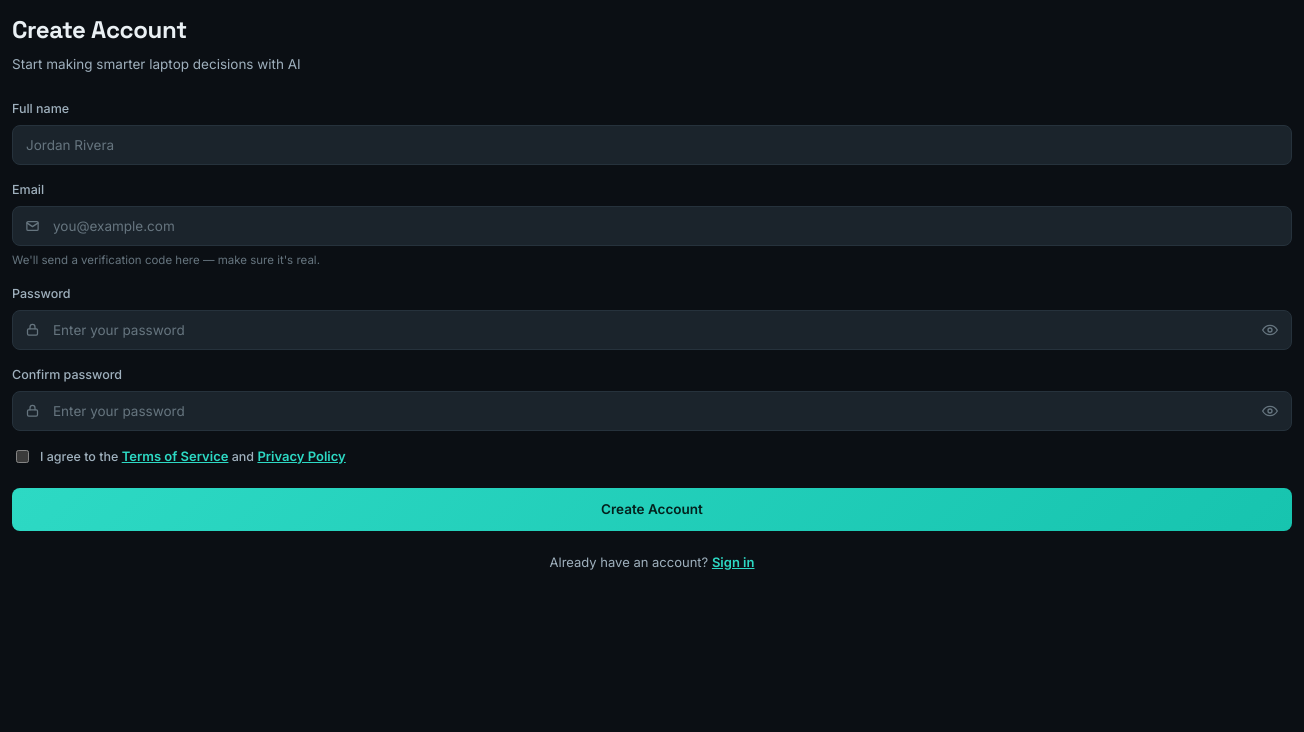
Scenario: RegisterForm — two-step email OTP verification › rejects mismatched passwords
Step 1. Type "Alice" into the field labelled "Full name" → [652, 145], box [12,125,1292,165]
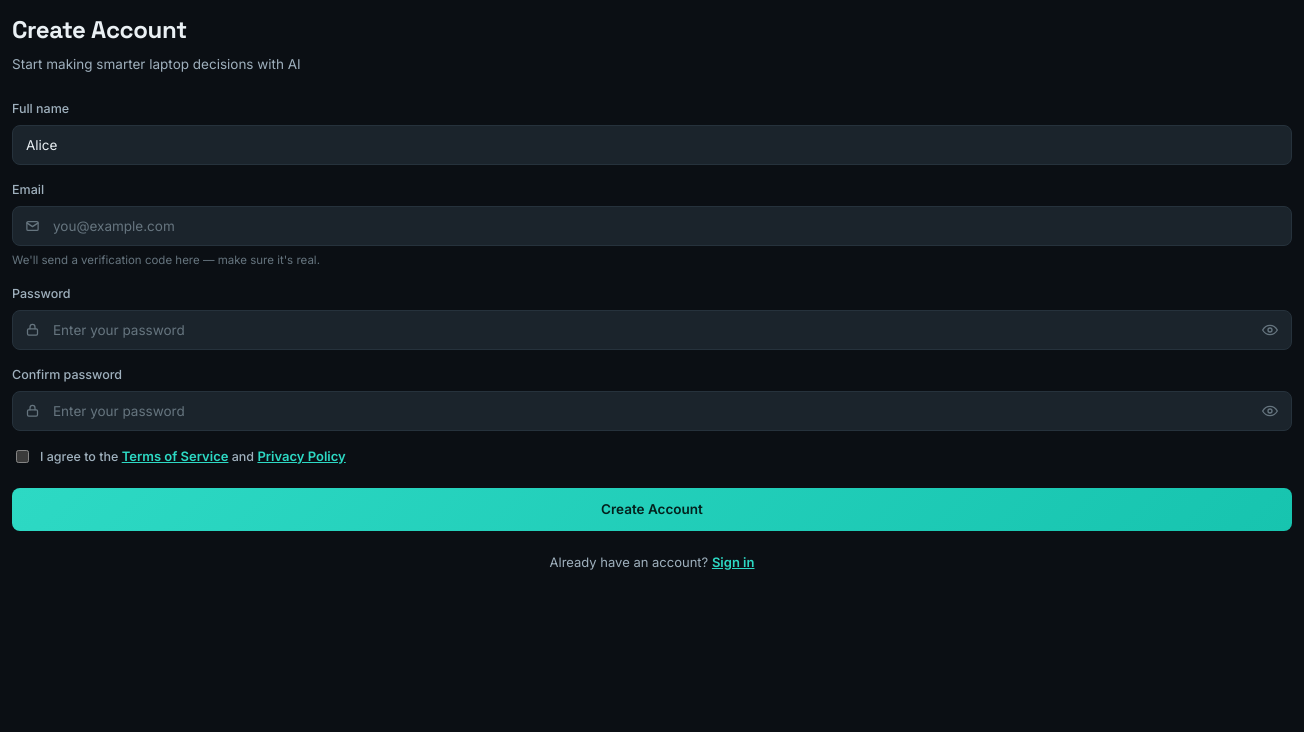
Step 2. Type "alice@example.com" into the field labelled "Email" → [652, 226], box [12,206,1292,246]
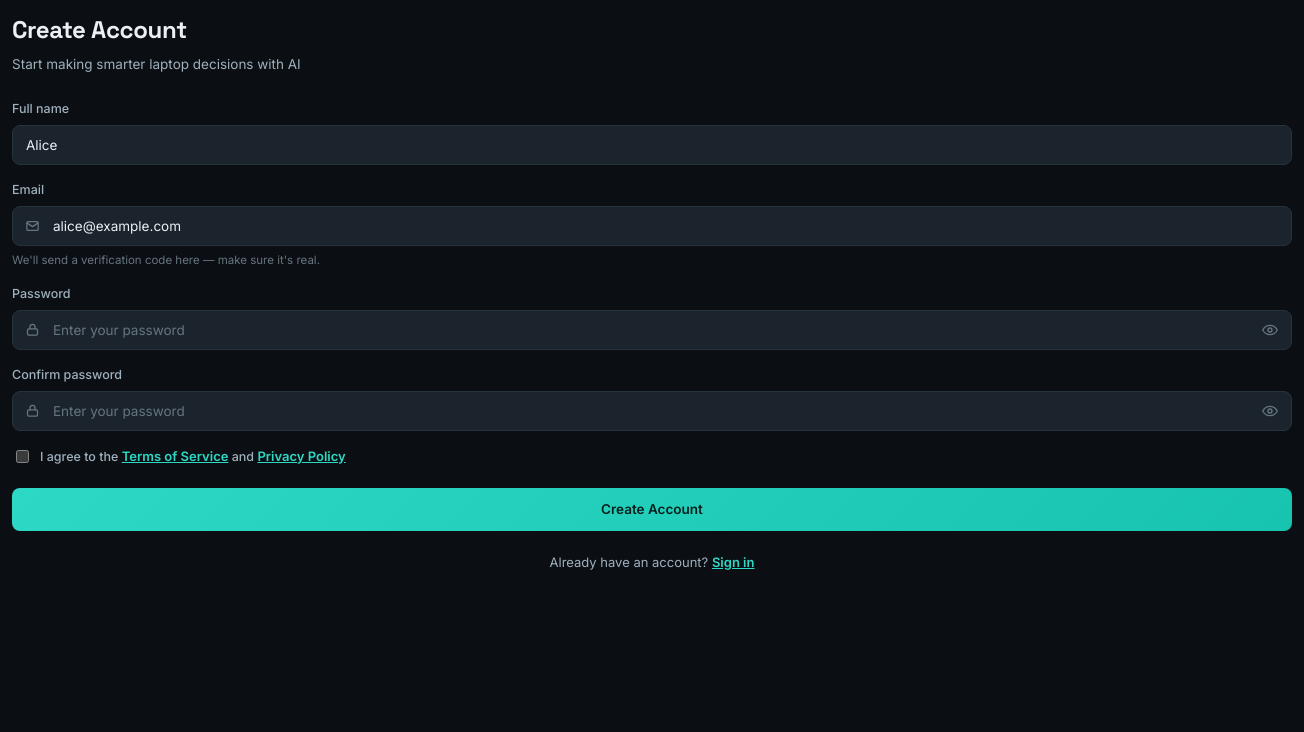
Step 3. Type "StrongPass1" into the password field labelled "Password" → [652, 330], box [12,310,1292,350]
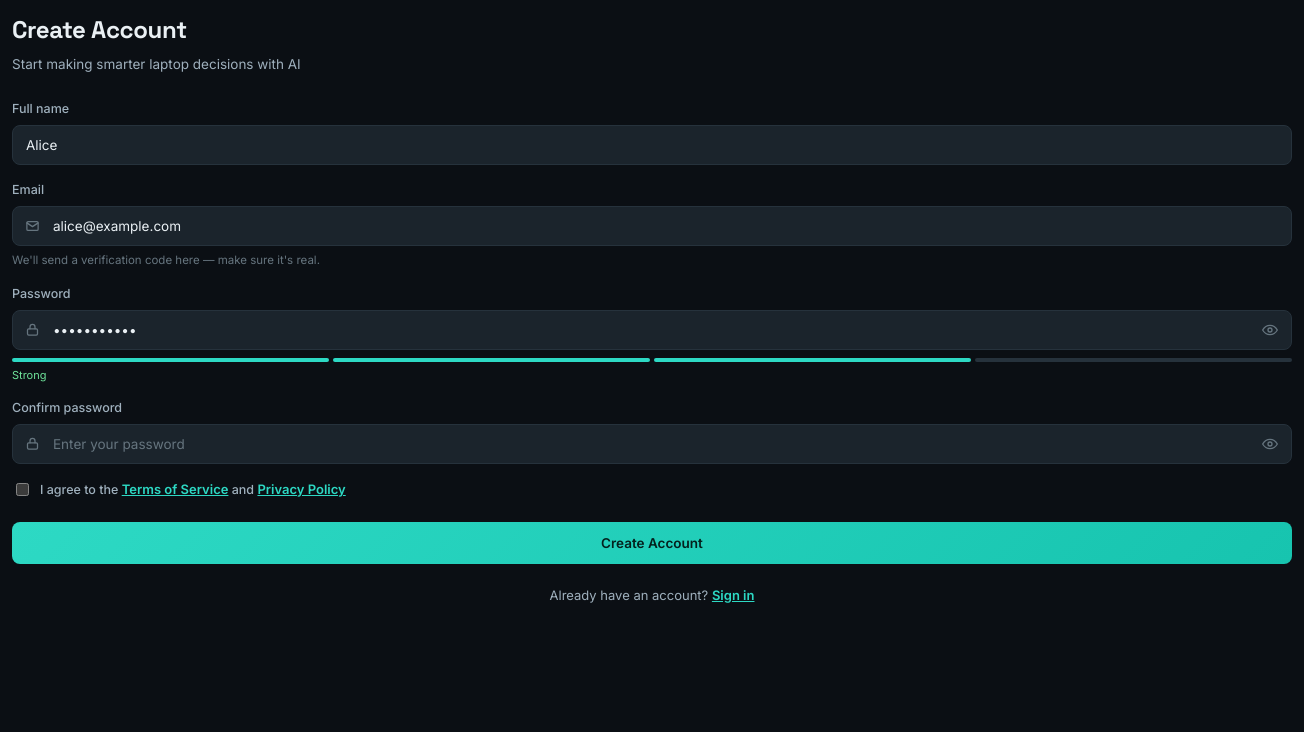
Step 4. Type "Different1" into the password field labelled "Confirm password" → [652, 444], box [12,424,1292,464]
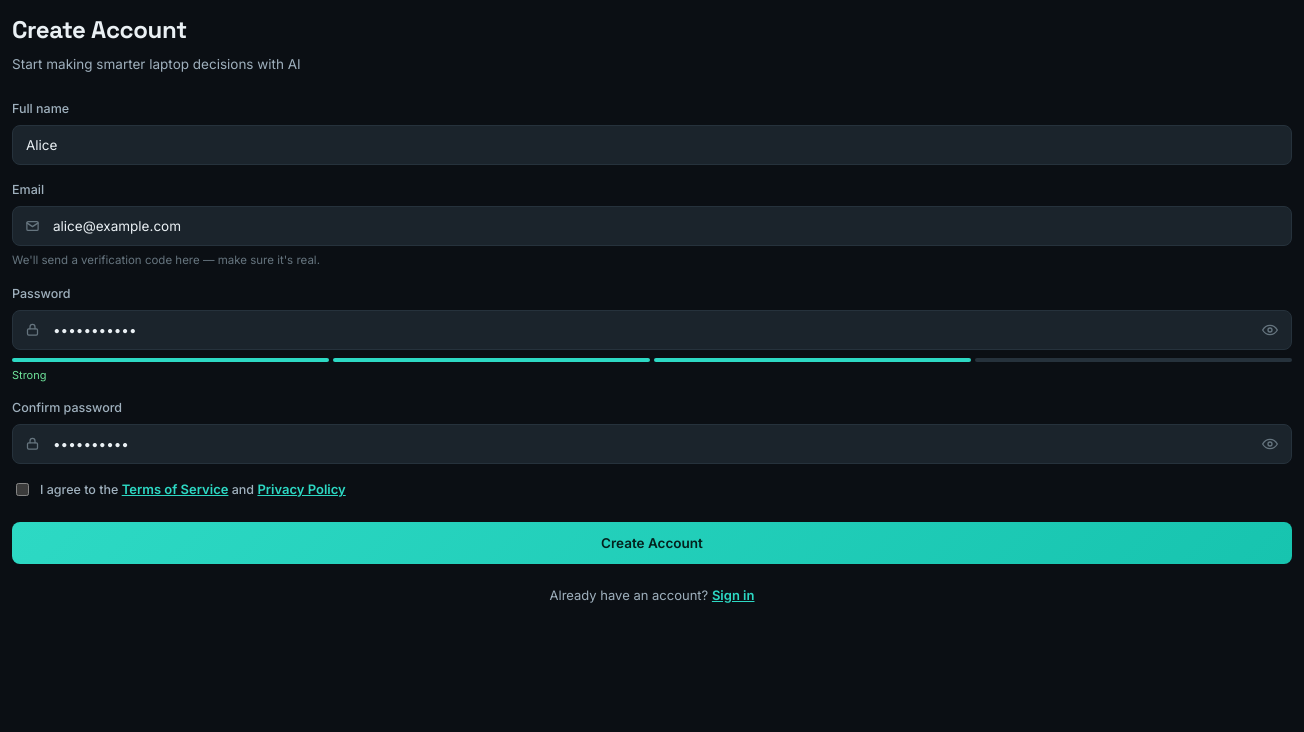
Step 5. Click the checkbox labelled "I agree to the Terms of Service and Privacy Policy" → [22, 490], box [16,483,29,496]
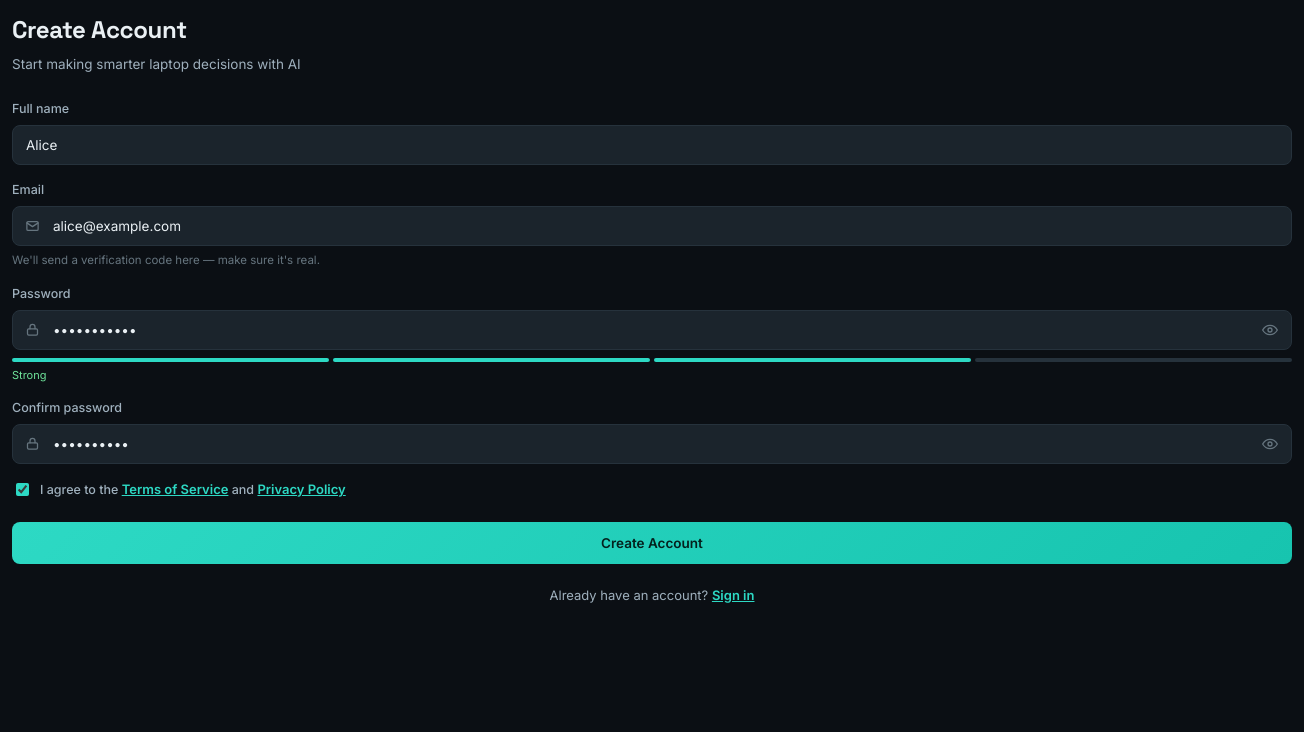
Step 6. Click the button "Create Account" → [652, 543], box [12,522,1292,564]
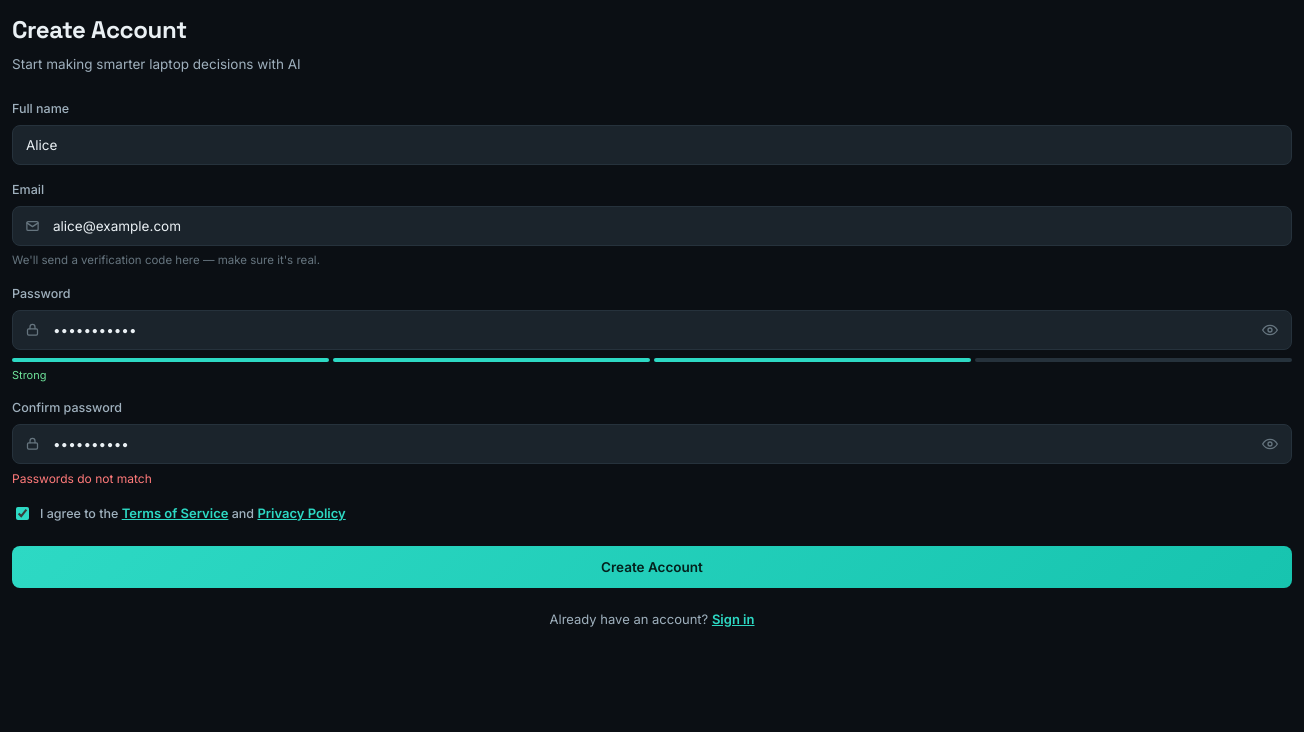
Expected: the text "Passwords do not match" is shown, [12,471,152,486]
